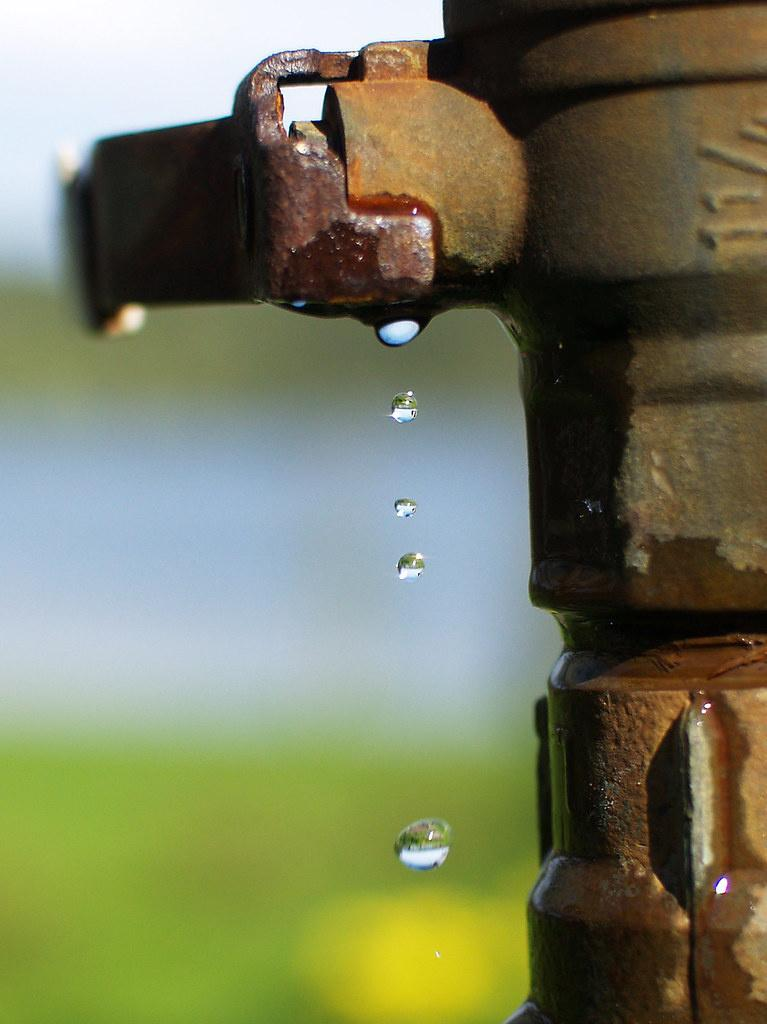water drop: (395, 818, 449, 869), (373, 307, 424, 347), (390, 392, 418, 425), (398, 551, 426, 579), (390, 493, 418, 518)
